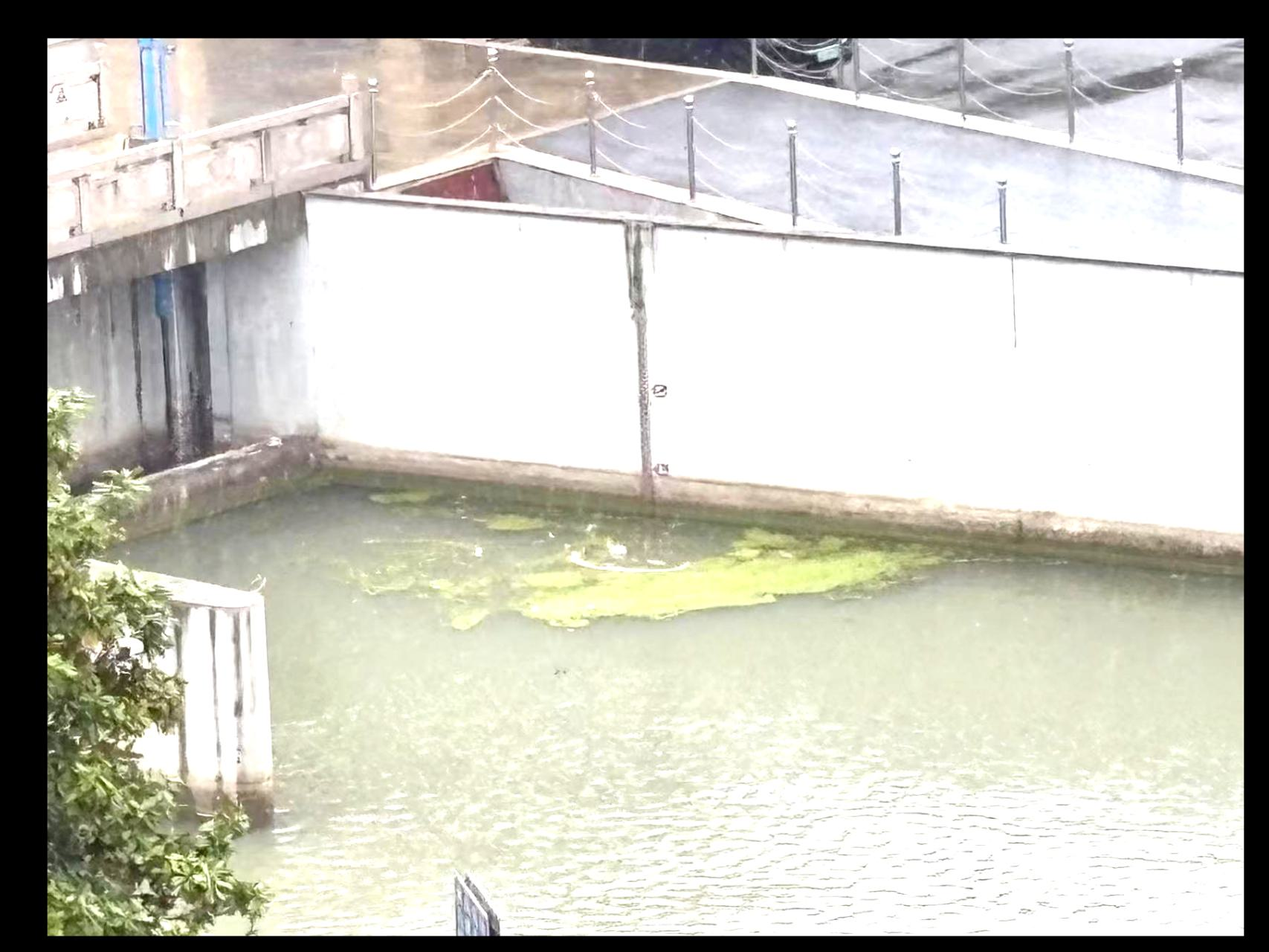Other: (740, 527, 910, 585), (520, 562, 678, 617), (684, 556, 739, 609), (479, 507, 558, 536), (365, 487, 435, 506)
Plastic wastes: (608, 541, 630, 556), (472, 544, 484, 560)
